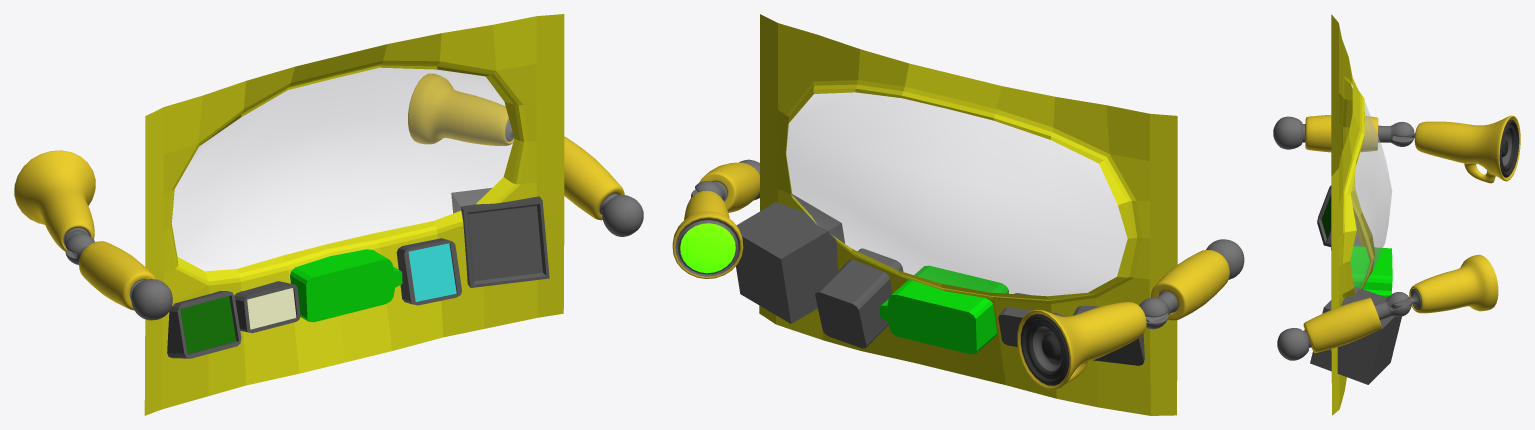
File: InsideSub_014_3.fbx
3 views of the same model, side by side, from view 1: azimuth 30°, elevation 25°; view 2: azimuth 150°, elevation 25°; view 3: azimuth 270°, elevation 25° (orthographic). The views are drawn at different scales.
Visible parts, largest first — view 1: Hull, Cube, Battery, R_Lower Arm, G_Lower Arm, R_Upper Arm, G_Upper Arm, Toxicity, Depth, Speed; view 2: Hull, Cube, R_Lower Arm, Battery, Depth, R_Upper Arm, G_Lower Arm, G_Upper Arm, Toxicity, Speed; view 3: Hull, R_Lower Arm, G_Upper Arm, G_Lower Arm, Cube, R_Upper Arm, Battery, Toxicity.
Part boxes in pixels (x1,y1,x2,y2): Hull: (144,14,564,415); Cube: (451,187,549,287); Battery: (290,249,402,322); R_Lower Arm: (14,150,95,257); G_Lower Arm: (408,73,514,145); R_Upper Arm: (65,233,172,320); G_Upper Arm: (564,136,643,236); Toxicity: (167,291,241,358); Depth: (396,238,461,305); Speed: (234,281,300,333); Hull: (759,14,1177,415); Cube: (736,194,844,323); R_Lower Arm: (1017,302,1165,390); Battery: (880,265,1008,354); Depth: (815,248,903,348); R_Upper Arm: (1139,239,1244,329); G_Lower Arm: (672,189,743,278); G_Upper Arm: (691,159,759,212); Toxicity: (1073,306,1144,365); Speed: (998,293,1063,346); Hull: (1331,14,1392,415); R_Lower Arm: (1405,115,1520,183); G_Upper Arm: (1277,292,1411,360); G_Lower Arm: (1390,254,1498,313); Cube: (1310,288,1401,384); R_Upper Arm: (1273,115,1414,152); Battery: (1350,246,1392,297); Toxicity: (1317,185,1331,246).
Bounding box in the file's own units: 648 × 367 × 340.
